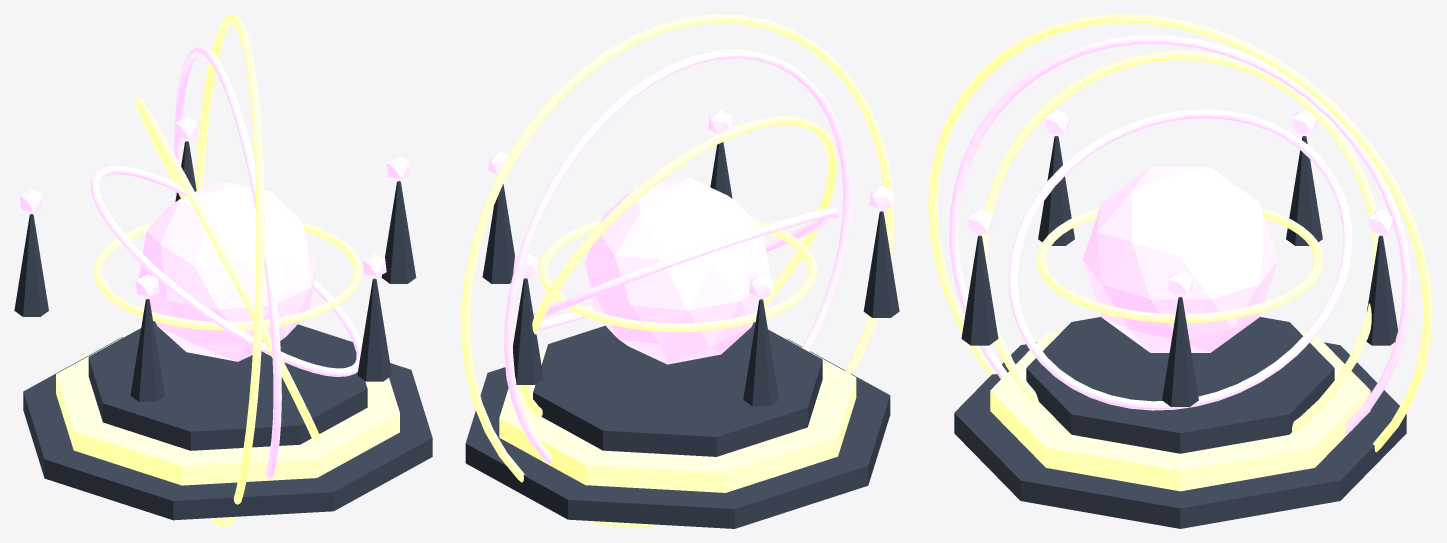
The model's file is gpu-blender-v36.glb.
The picture shows the model from 3 angles, left to right: view 1: azimuth 30°, elevation 25°; view 2: azimuth 150°, elevation 25°; view 3: azimuth 270°, elevation 25°; orthographic projection. The views are drawn at different scales.
Visible parts, largest first — view 1: Cylinder.002, Cylinder, SovereignCore_zoth-civilization, Cylinder.001, Torus.004, Torus.003, Torus.001, Torus, Torus.002, Cone.004, Cone.002, Cone.003 (+1 smaller); view 2: Cylinder.002, SovereignCore_zoth-civilization, Cylinder, Cylinder.001, Torus.004, Torus.003, Torus.002, Torus, Torus.001, Cone.002, Cone.003, Cone (+2 smaller); view 3: SovereignCore_zoth-civilization, Cylinder.002, Cylinder, Cylinder.001, Torus.004, Torus.001, Torus.003, Torus.002, Torus, Cone.004, Cone, Cone.001 (+2 smaller).
Boxes of the visible parts, x1,y1,x2,y2 form: Cylinder.002: (88, 321, 367, 450); Cylinder: (23, 337, 432, 520); SovereignCore_zoth-civilization: (138, 181, 317, 361); Cylinder.001: (56, 328, 399, 485); Torus.004: (195, 14, 264, 528); Torus.003: (174, 46, 281, 478); Torus.001: (91, 166, 362, 376); Torus: (93, 221, 362, 330); Torus.002: (134, 97, 320, 440); Cone.004: (357, 278, 391, 381); Cone.002: (14, 214, 48, 316); Cone.003: (130, 299, 164, 401); Cylinder.002: (533, 322, 822, 456); SovereignCore_zoth-civilization: (585, 177, 770, 364); Cylinder: (465, 338, 890, 528); Cylinder.001: (499, 330, 856, 492); Torus.004: (461, 14, 894, 527); Torus.003: (504, 49, 851, 463); Torus.002: (519, 116, 836, 417); Torus: (538, 219, 817, 332); Torus.001: (533, 208, 838, 330); Cone.002: (743, 299, 778, 406); Cone.003: (863, 211, 899, 317); Cone: (482, 184, 514, 283); SovereignCore_zoth-civilization: (1083, 167, 1277, 352); Cylinder.002: (1026, 317, 1334, 453); Cylinder: (954, 342, 1406, 528); Cylinder.001: (990, 330, 1370, 491); Torus.004: (928, 14, 1432, 452); Torus.001: (1008, 109, 1352, 410); Torus.003: (949, 35, 1411, 434); Torus.002: (980, 50, 1380, 433); Torus: (1037, 207, 1323, 322); Cone.004: (961, 235, 998, 345); Cone: (1162, 297, 1198, 406); Cone.001: (1366, 235, 1397, 345).
Size of the model in its own units: 4.41 by 5.33 by 4.9.
